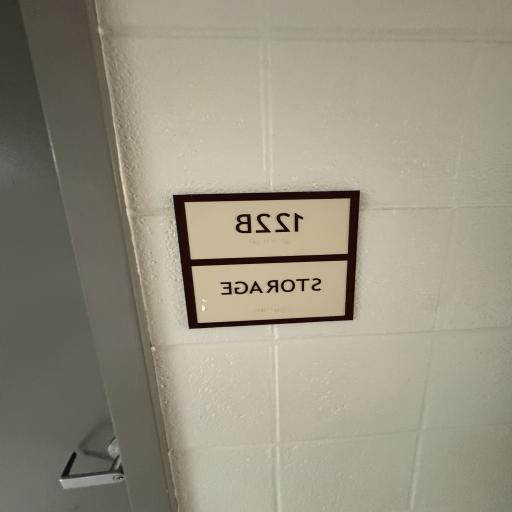door: (0, 0, 117, 512)
room 122b sign: (175, 186, 363, 334)
